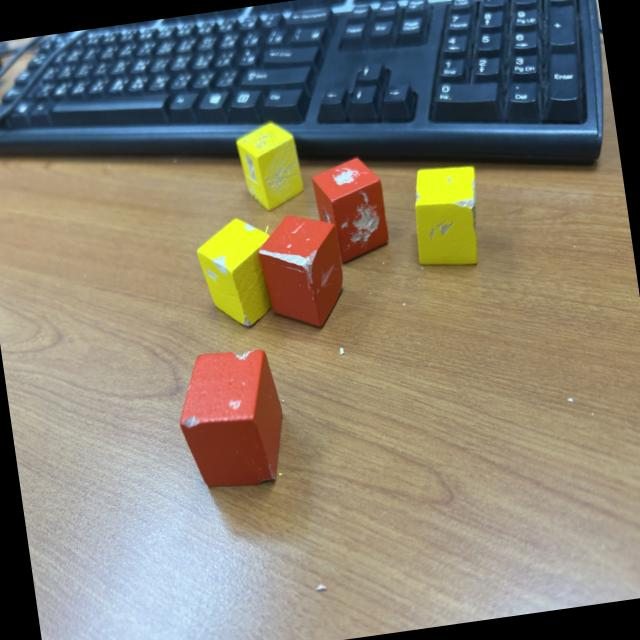broken: (173, 337, 293, 494), (252, 206, 351, 336), (192, 210, 286, 334), (406, 160, 490, 274), (310, 153, 392, 267), (234, 115, 308, 217)
